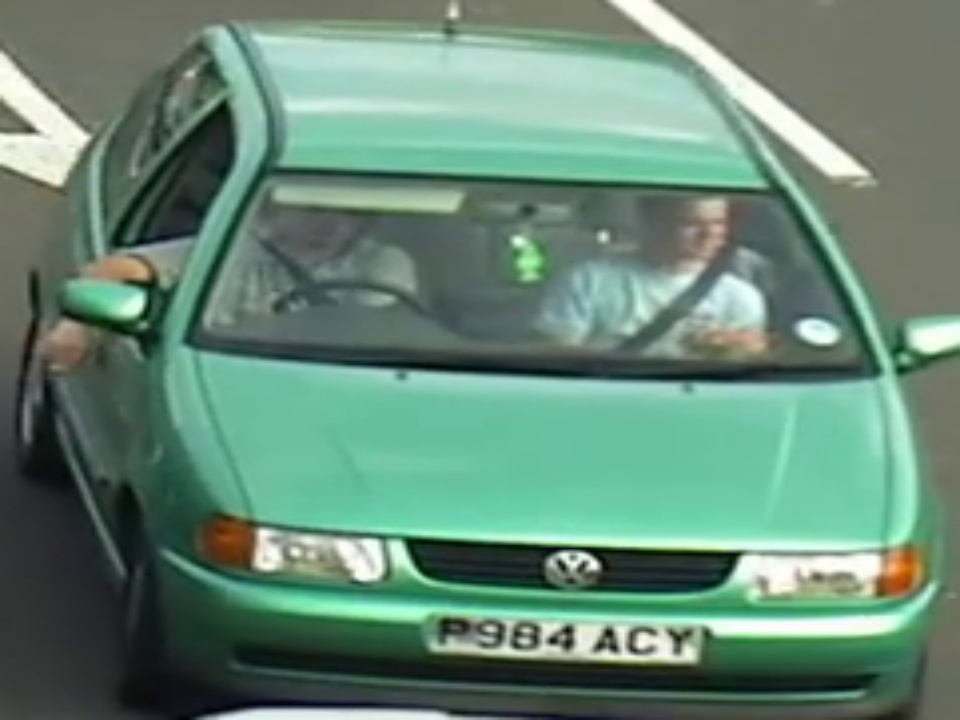TWO: (229, 168, 858, 378)
